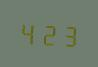four: (18, 18, 37, 46)
three: (59, 20, 78, 48)
two: (39, 19, 58, 47)
